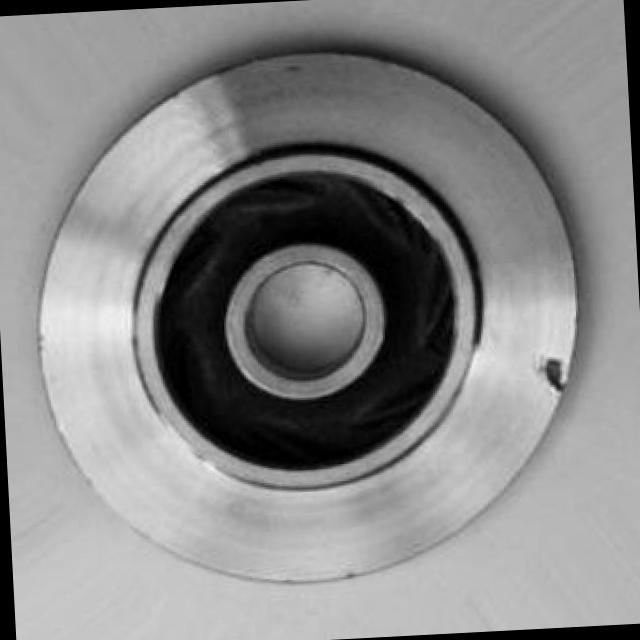Defect: (543, 350, 570, 404)
